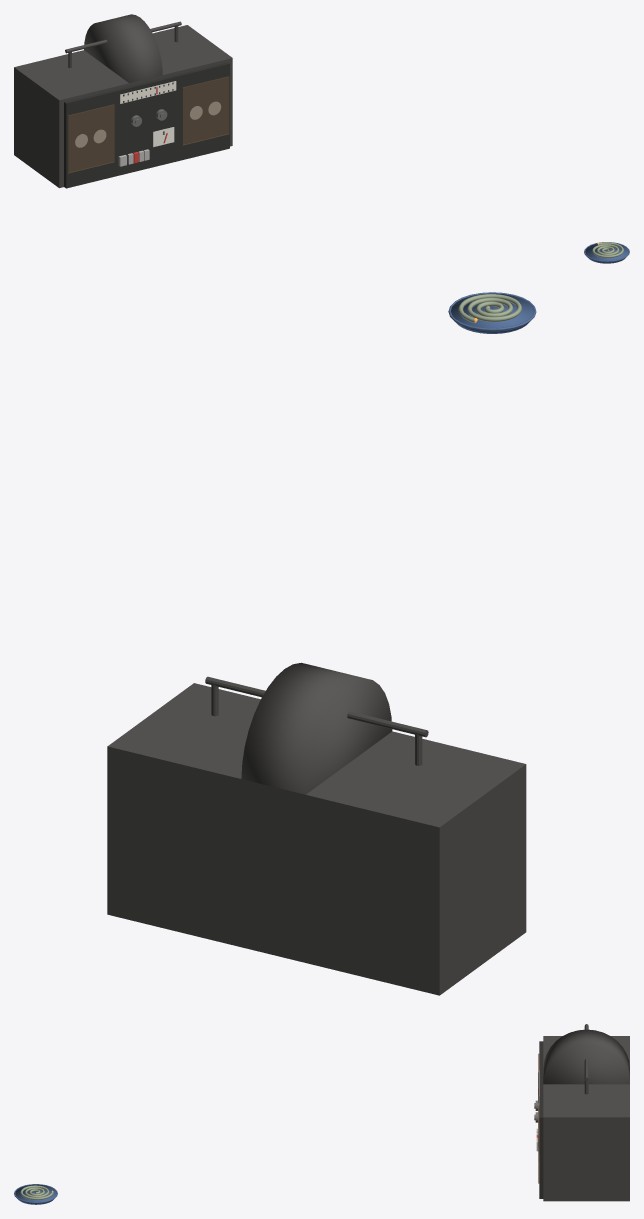
File: audio.glb
The picture shows the model from 3 angles, top to bottom: view 1: azimuth 30°, elevation 25°; view 2: azimuth 150°, elevation 25°; view 3: azimuth 270°, elevation 25°; orthographic projection. The views are drawn at different scales.
Parts seen in each view (by area): view 1: prop_radio_panel, prop_radio_body, prop_radio_body_top, prop_radio_door_l, prop_radio_door_r, prop_radio_dial, prop_radio_handle, prop_mosq_dish, prop_mosq_coil; view 2: prop_radio_body, prop_radio_body_top, prop_radio_handle, prop_mosq_dish, prop_mosq_coil; view 3: prop_radio_body, prop_radio_body_top, prop_radio_panel, prop_mosq_dish, prop_mosq_coil.
Part boxes in pixels (x1,y1,x2,y2): prop_radio_panel: (64,62,229,188); prop_radio_body: (14,25,232,188); prop_radio_body_top: (84,14,162,83); prop_radio_door_l: (67,104,114,173); prop_radio_door_r: (182,76,229,145); prop_radio_dial: (120,81,176,103); prop_radio_handle: (65,21,181,67); prop_mosq_dish: (585,243,628,263); prop_mosq_coil: (592,242,623,257); prop_radio_body: (107,683,526,995); prop_radio_body_top: (241,662,392,794); prop_radio_handle: (205,676,428,765); prop_mosq_dish: (451,293,533,333); prop_mosq_coil: (458,294,521,323); prop_radio_body: (543,1036,629,1201); prop_radio_body_top: (543,1029,629,1084); prop_radio_panel: (539,1041,543,1198); prop_mosq_dish: (15,1184,56,1204); prop_mosq_coil: (20,1185,53,1199).
Bounding box in the file's own units: 1.08 × 0.452 × 1.99.
